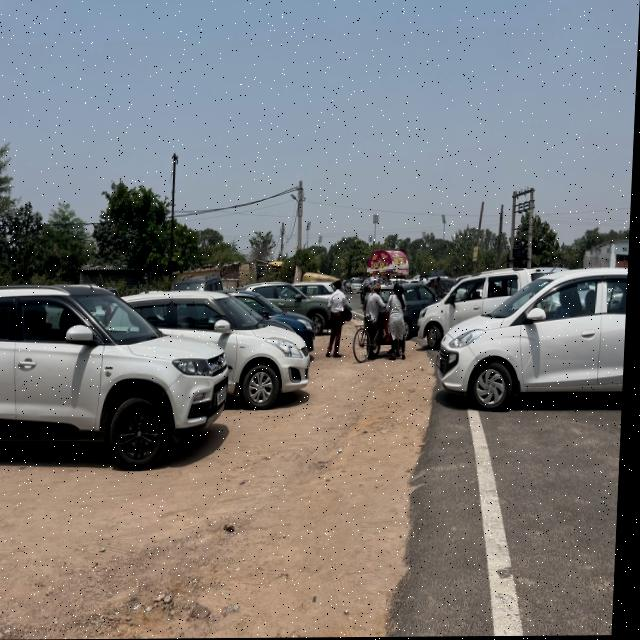car: (0, 267, 240, 490), (440, 265, 631, 436), (115, 279, 321, 425), (418, 261, 522, 356), (247, 283, 346, 333), (406, 278, 440, 333), (173, 270, 229, 295), (351, 275, 366, 300)
